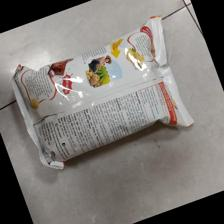Lays: (5, 13, 195, 174)
